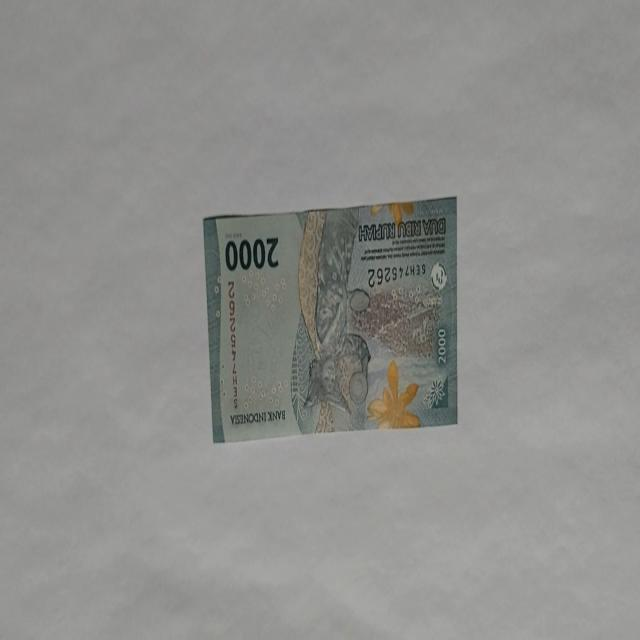dua ribu rupiah: (202, 195, 458, 444)
